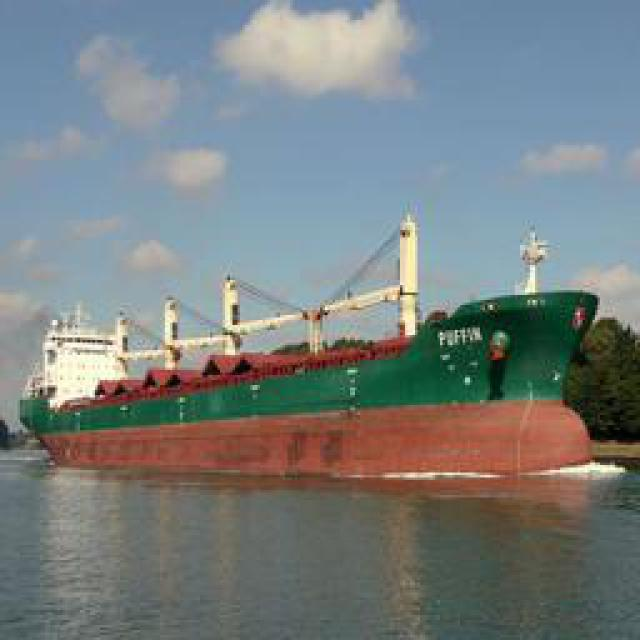Ship: (30, 267, 603, 465)
